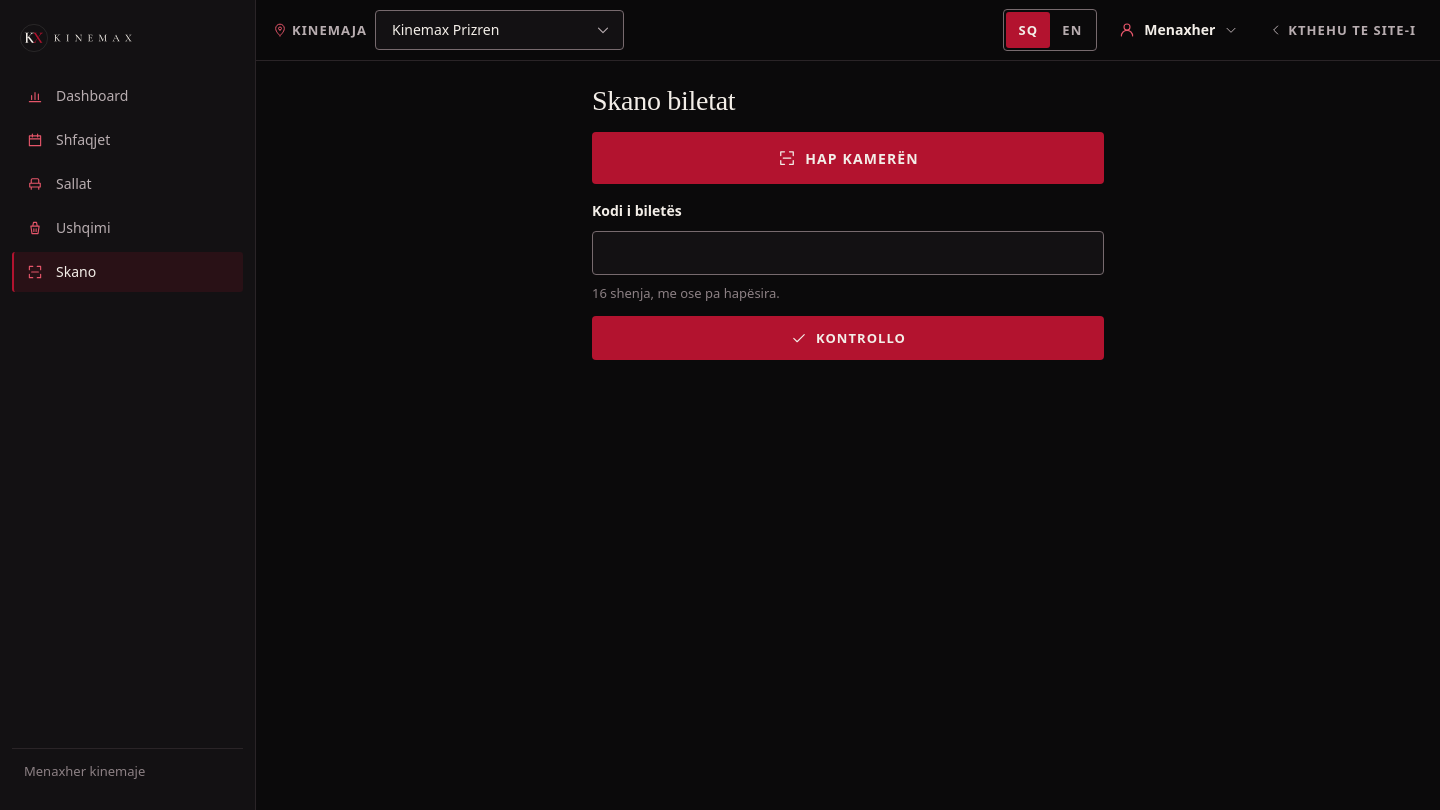
Scenario: the scan page › shows a repeat scan in amber, a whole suite, and a failed check
The image size is (1440, 810).
Type "ABCD1234EFGH5678" into the field labelled "Kodi i biletës" at {"x": 848, "y": 253}, box left=592, top=231, right=1104, bottom=275
Click the button "Kontrollo" at {"x": 848, "y": 338}, box left=592, top=316, right=1104, bottom=360
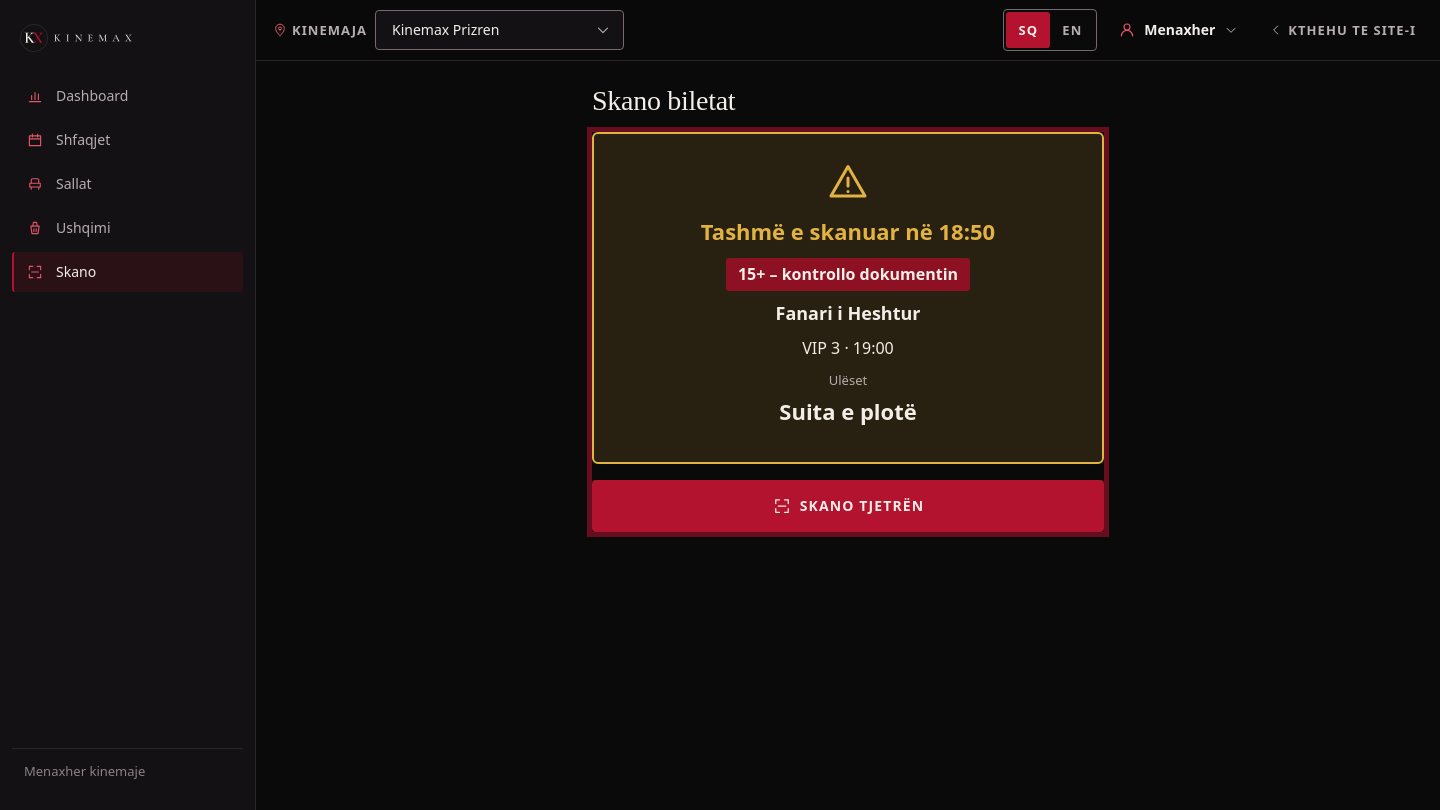
Click the button "Skano tjetrën" at {"x": 848, "y": 506}, box left=592, top=480, right=1104, bottom=532
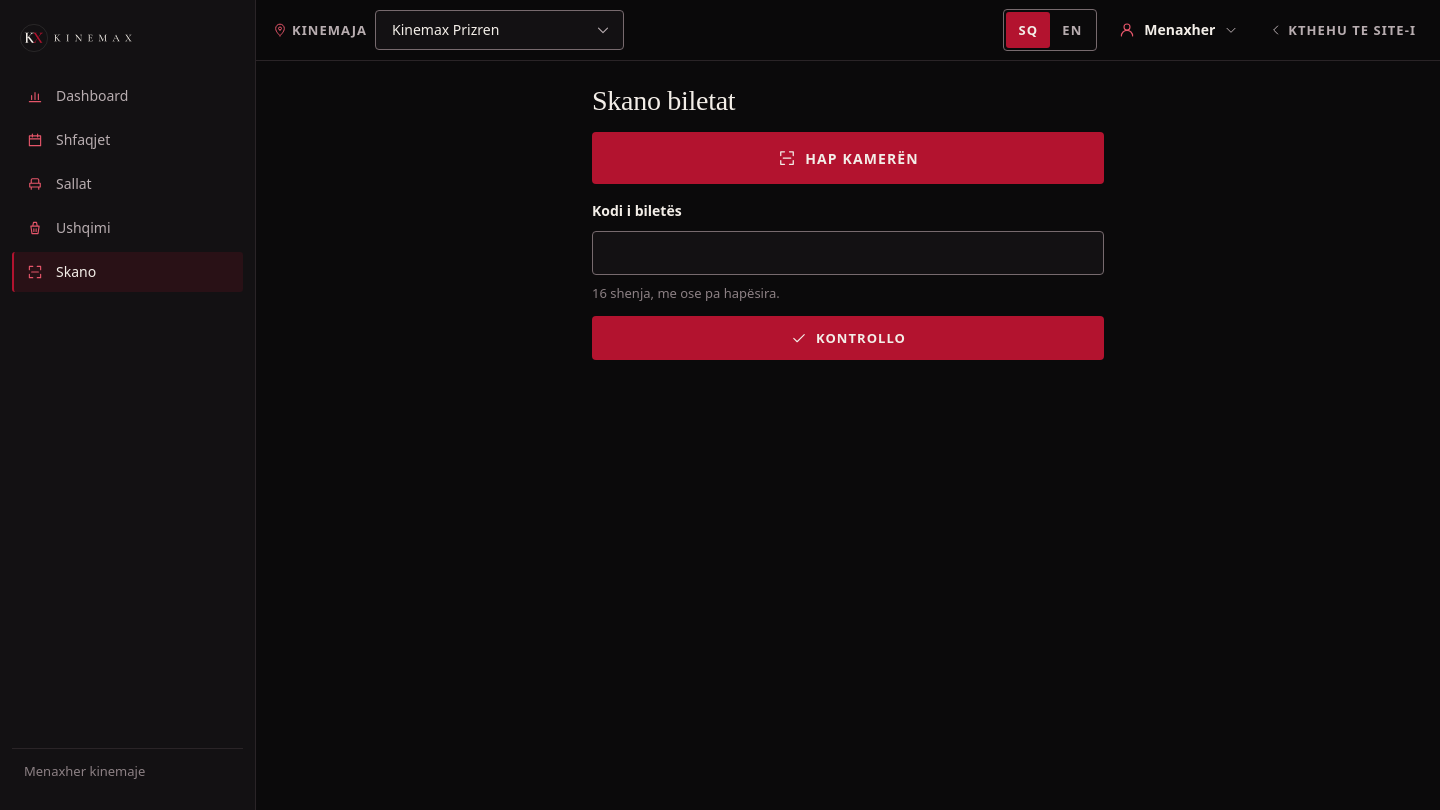
Type "ABCD1234EFGH5679" into the field labelled "Kodi i biletës" at {"x": 848, "y": 253}, box left=592, top=231, right=1104, bottom=275
Click the button "Kontrollo" at {"x": 848, "y": 338}, box left=592, top=316, right=1104, bottom=360
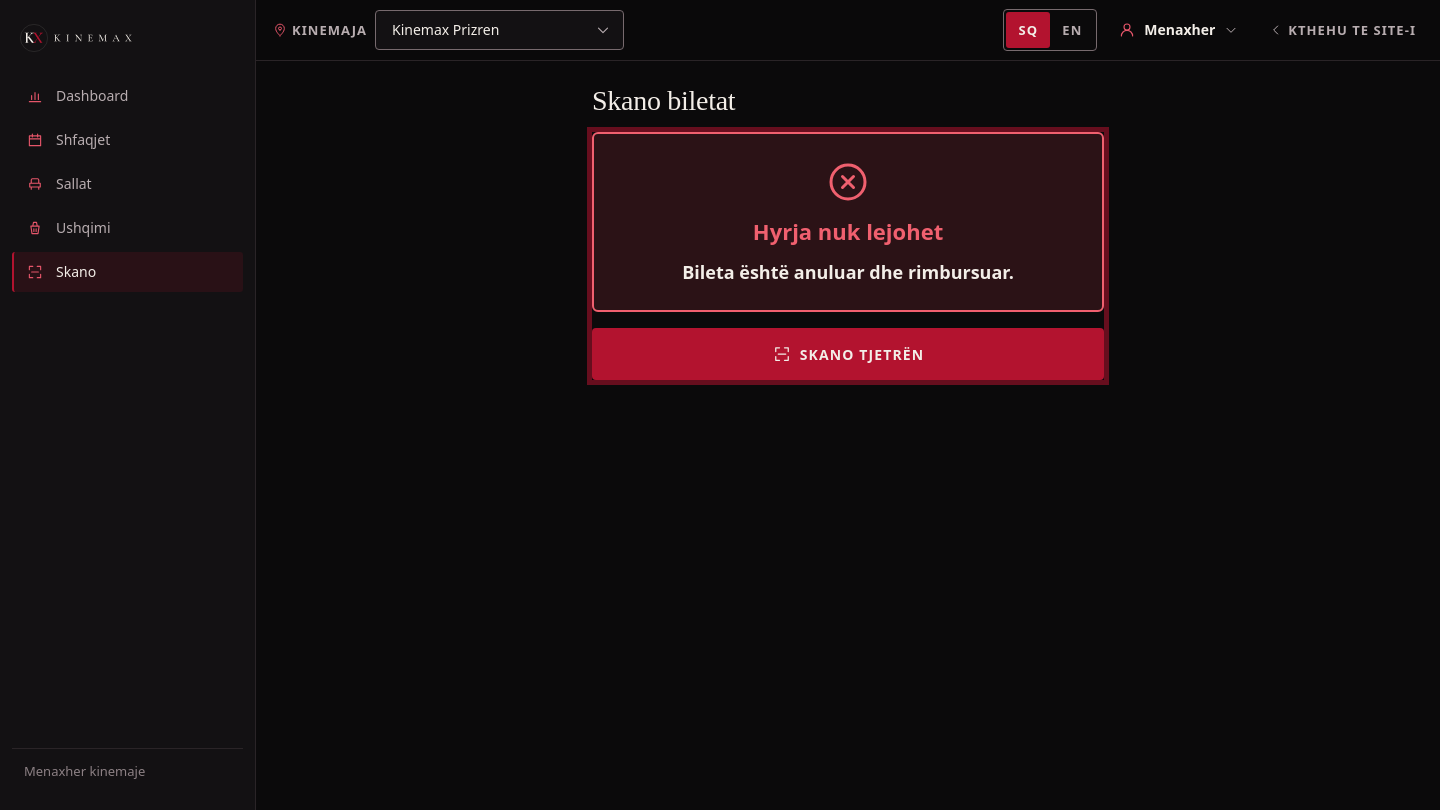
Check: the message shows "anuluar dhe rimbursuar", box left=682, top=260, right=1014, bottom=284
Click the button "Skano tjetrën" at {"x": 848, "y": 354}, box left=592, top=328, right=1104, bottom=380
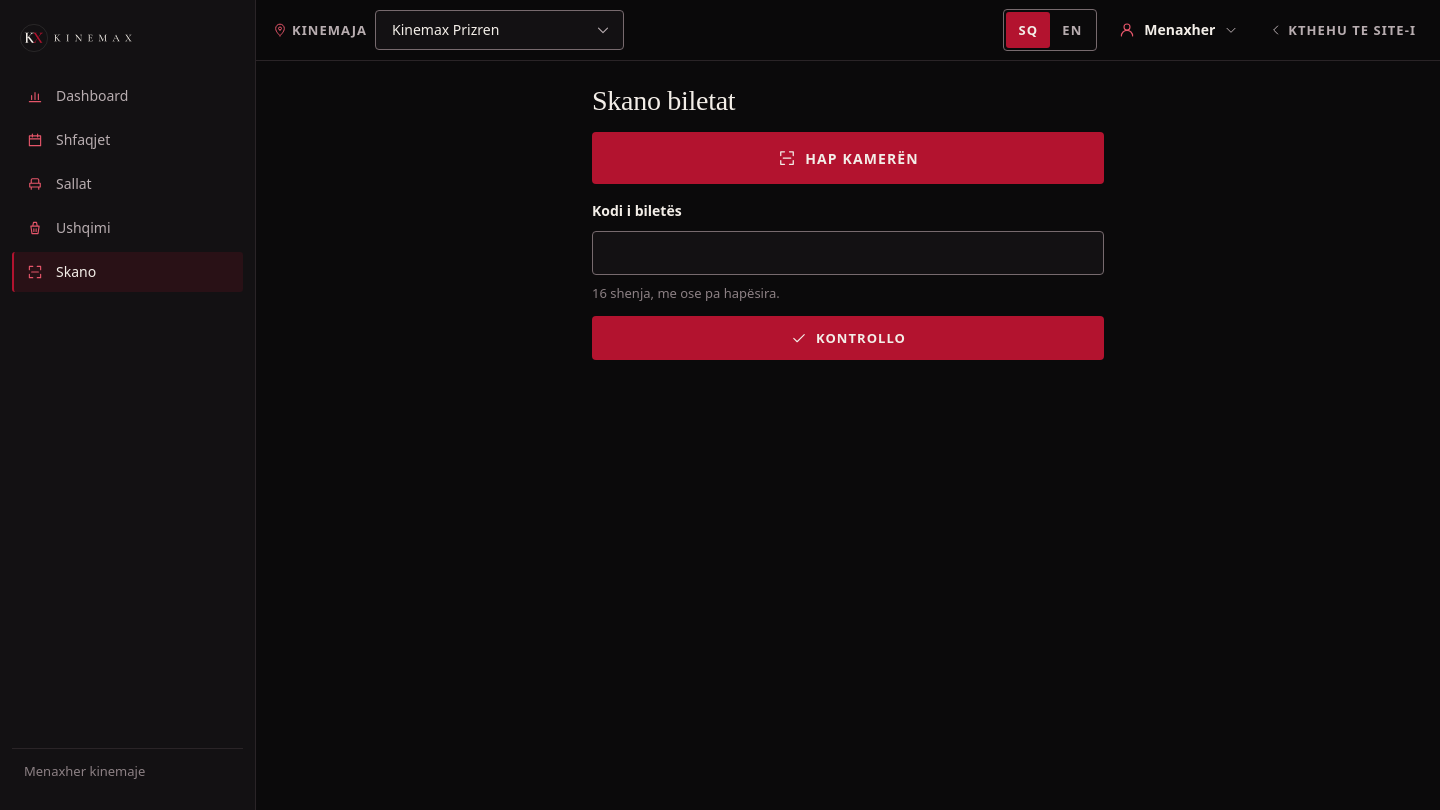
Type "ABCD1234EFGH5670" into the field labelled "Kodi i biletës" at {"x": 848, "y": 253}, box left=592, top=231, right=1104, bottom=275
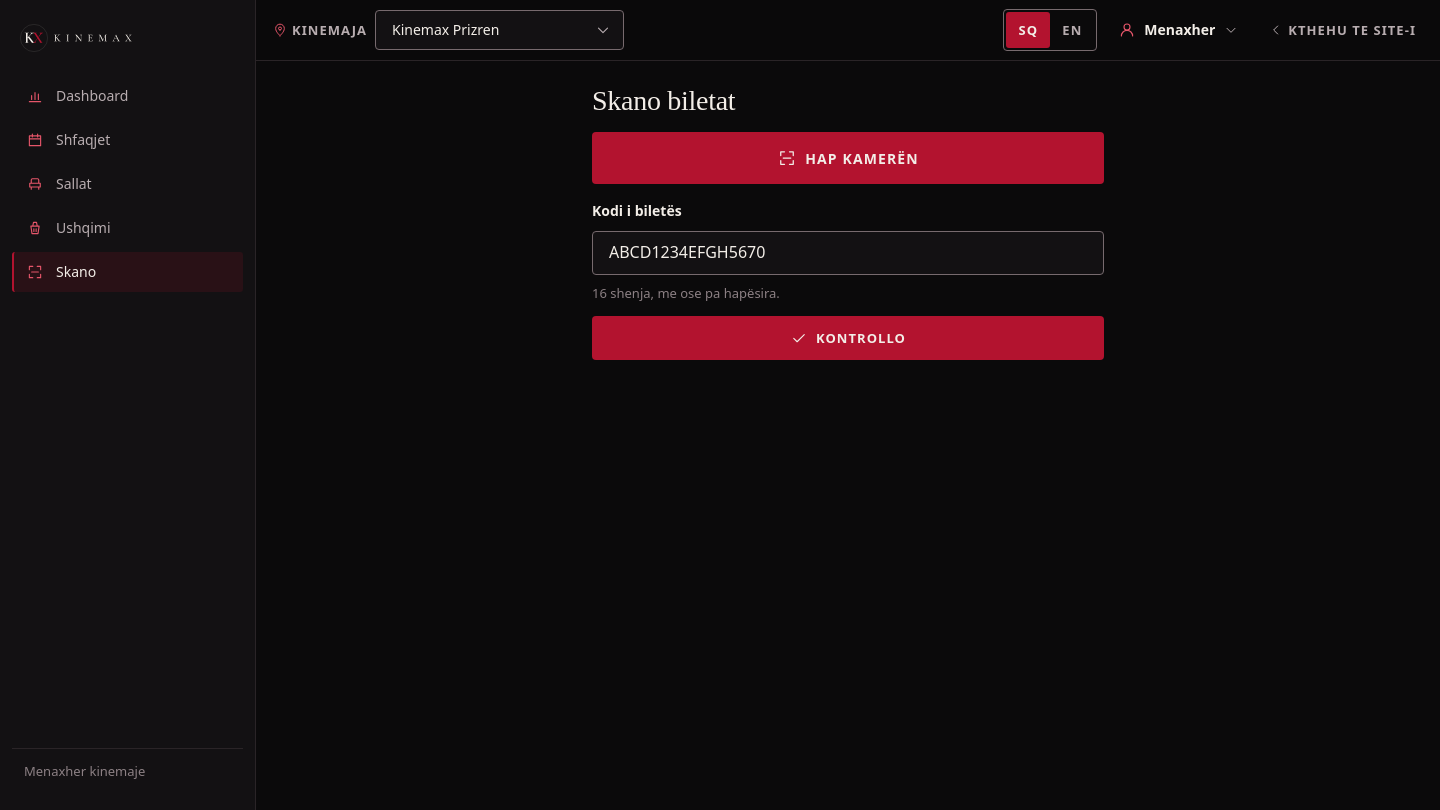
Click the button "Kontrollo" at {"x": 848, "y": 338}, box left=592, top=316, right=1104, bottom=360
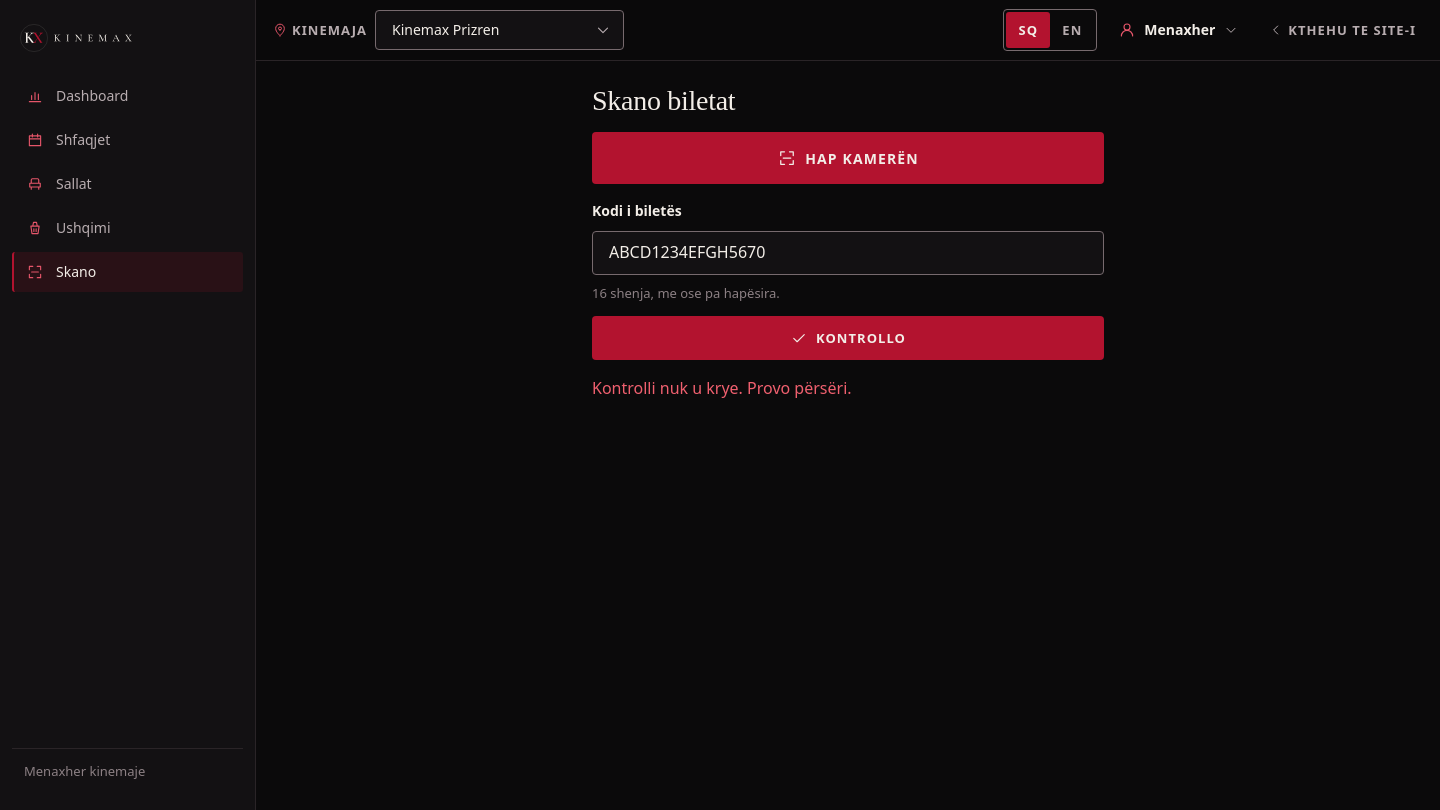
Check: the message shows "Kontrolli nuk u krye", box left=592, top=376, right=852, bottom=398
